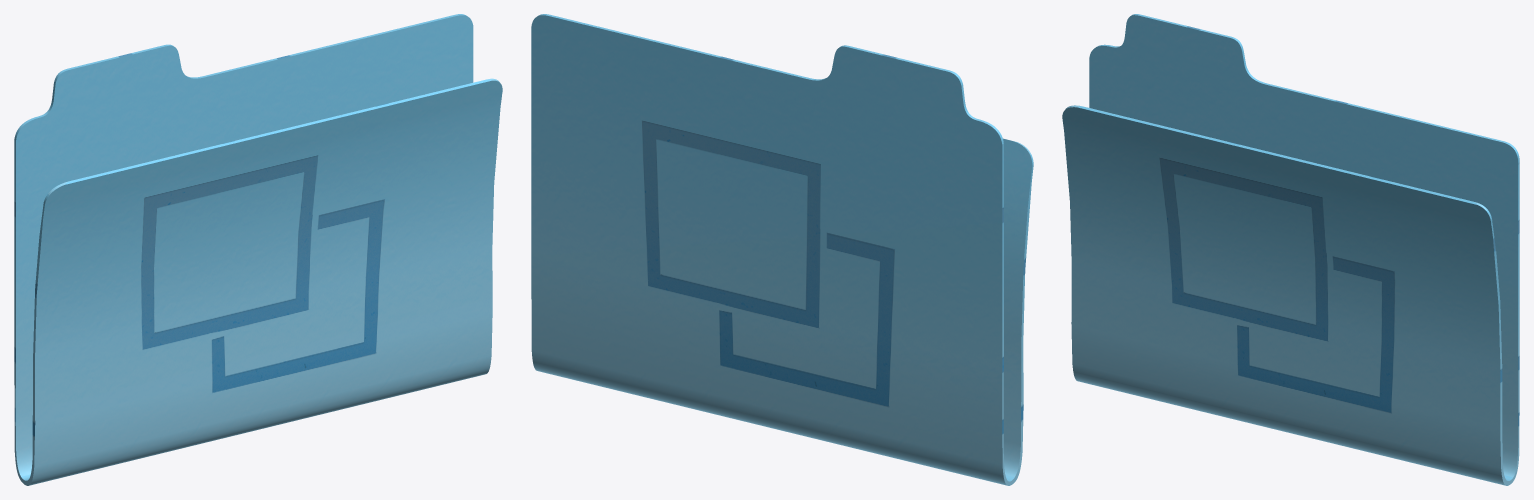
Rendered from assetCatalog.dae.
3 views of the same model, side by side, from view 1: azimuth 30°, elevation 25°; view 2: azimuth 150°, elevation 25°; view 3: azimuth 330°, elevation 25° (orthographic). The views are drawn at different scales.
Visible parts, largest first — view 1: Extrude_NURBS (×2), Cap_2; view 2: Extrude_NURBS (×2), Cap_2; view 3: Extrude_NURBS (×2), Cap_1.
Part boxes in pixels (x1,y1,x2,y2): Extrude_NURBS (×2): [14, 14, 502, 485]; Cap_2: [14, 140, 44, 485]; Extrude_NURBS (×2): [531, 14, 1032, 485]; Cap_2: [1002, 143, 1033, 485]; Extrude_NURBS (×2): [1062, 14, 1519, 485]; Cap_1: [1491, 161, 1519, 485].
Size of the model in its own units: 472 by 390 by 58.24.
1 material, 1 textured.
